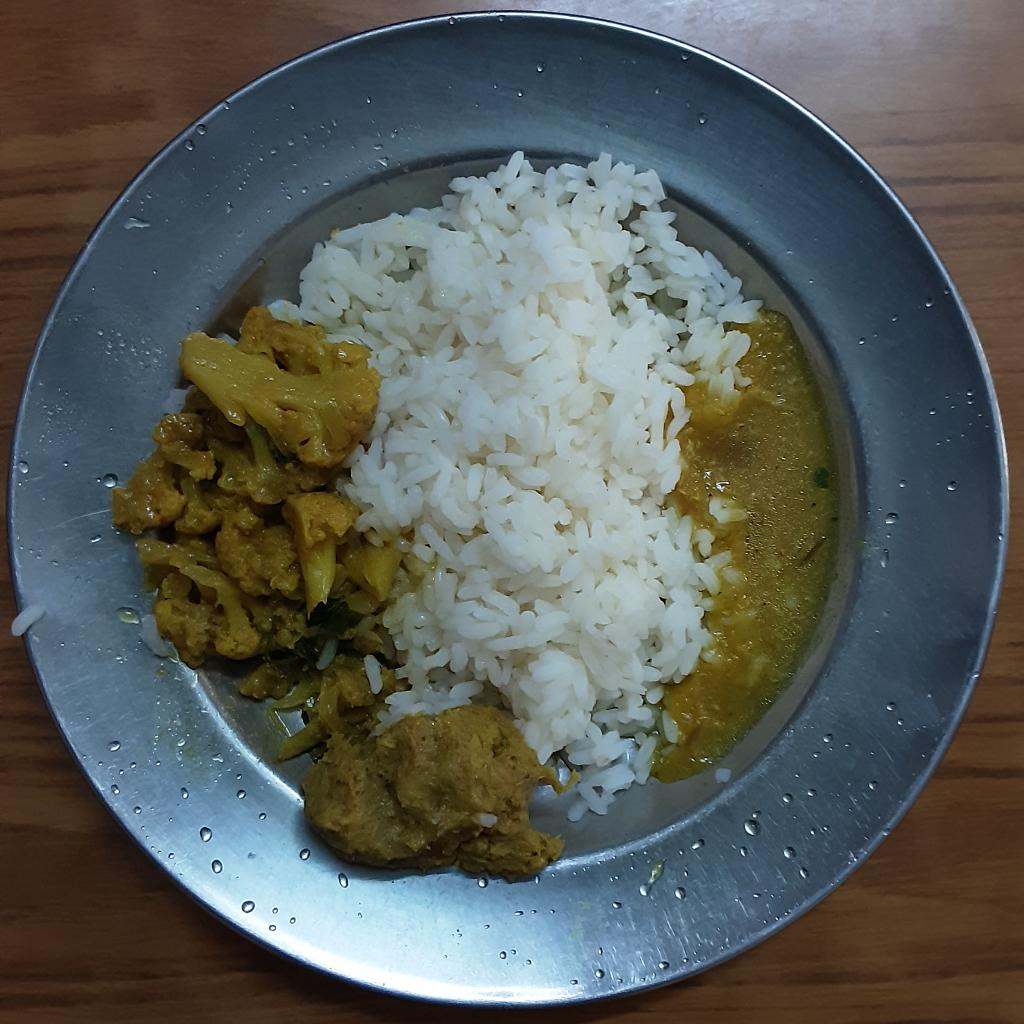cauliflower: (109, 308, 402, 757)
daal: (663, 304, 846, 784)
rice: (264, 145, 760, 824)
vorta: (294, 709, 569, 880)
